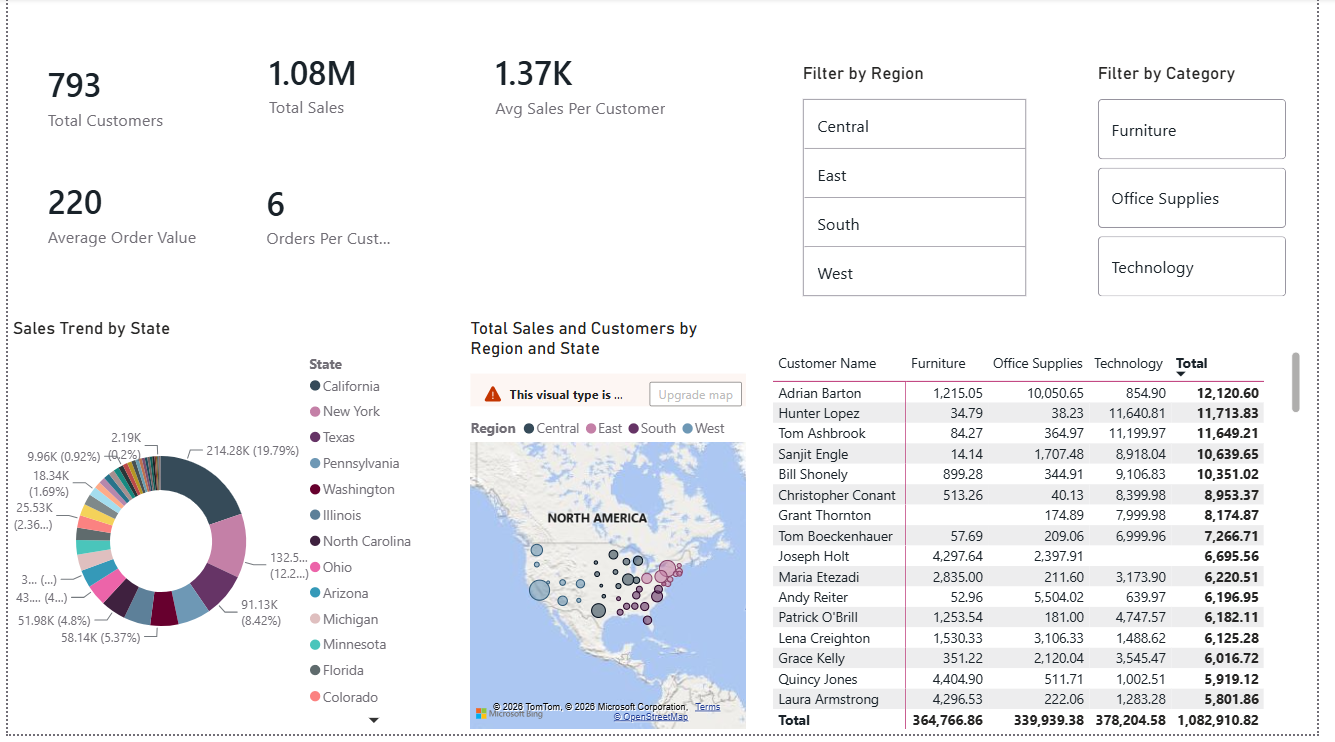

The dashboard page shown, as its layout file describes it:
{"tool":"powerbi","page":{"name":"Customer Analysis","canvas":[1280,720],"ordinal":1},"visuals":[{"type":"cardVisual","fields":{"Data":["DimCustomer.Total Customers"]},"box":[9.8,28.1,177.3,135.7],"z":0},{"type":"cardVisual","fields":{"Data":["Sum(Fact.Sales)"]},"box":[226.6,15.7,177.3,135.7],"z":1000},{"type":"cardVisual","fields":{"Data":["DimCustomer.Avg Sales Per Customer"]},"box":[447.6,20,233.6,129.6],"z":2000},{"type":"cardVisual","fields":{"Data":["DimCustomer.Orders Per Customer"]},"box":[224.3,134.1,223.2,154.4],"z":3000},{"type":"donutChart","title":"Sales Trend  by State","fields":{"Category":["DimCustomer.State"],"Y":["Sum(Fact.Sales)"]},"box":[0,313.6,424.8,406.2],"z":4000},{"type":"map","title":"Total Sales and Customers by Region and State","fields":{"Category":["DimCustomer.State"],"Series":["DimCustomer.Region"],"Size":["Sum(Fact.Sales)"]},"box":[447.6,313.6,279.4,406.2],"z":5000},{"type":"advancedSlicerVisual","fields":{"Values":["DimCustomer.Region"]},"box":[772.6,64.1,228.7,236],"z":6000},{"type":"cardVisual","fields":{"Data":["DimCustomer.Average Order Value"]},"box":[9.8,150.4,227.4,119.8],"z":7000},{"type":"pivotTable","fields":{"Columns":["DimProduct.Category"],"Rows":["DimCustomer.Customer Name"],"Values":["Sum(Fact.Sales)"]},"box":[744.1,340.7,526,379.2],"z":8000},{"type":"advancedSlicerVisual","fields":{"Values":["DimProduct.Category"]},"box":[1061.9,64.1,194.4,236],"z":9000}]}

Visuals, with their boxes in screenshot pixels (x1, y1, x2, y2), scaled from the page's 1280x720 canvas onto the 1335x742 screenshot:
cardVisual - DimCustomer.Total Customers: bbox(10, 29, 195, 169)
cardVisual - Sum(Fact.Sales): bbox(236, 16, 421, 156)
cardVisual - DimCustomer.Avg Sales Per Customer: bbox(467, 21, 710, 154)
cardVisual - DimCustomer.Orders Per Customer: bbox(234, 138, 467, 297)
"Sales Trend  by State" donutChart: bbox(0, 323, 443, 741)
"Total Sales and Customers by Region and State" map: bbox(467, 323, 758, 741)
advancedSlicerVisual - DimCustomer.Region: bbox(806, 66, 1044, 309)
cardVisual - DimCustomer.Average Order Value: bbox(10, 155, 247, 278)
pivotTable - DimProduct.Category x DimCustomer.Customer Name: bbox(776, 351, 1325, 741)
advancedSlicerVisual - DimProduct.Category: bbox(1108, 66, 1310, 309)
